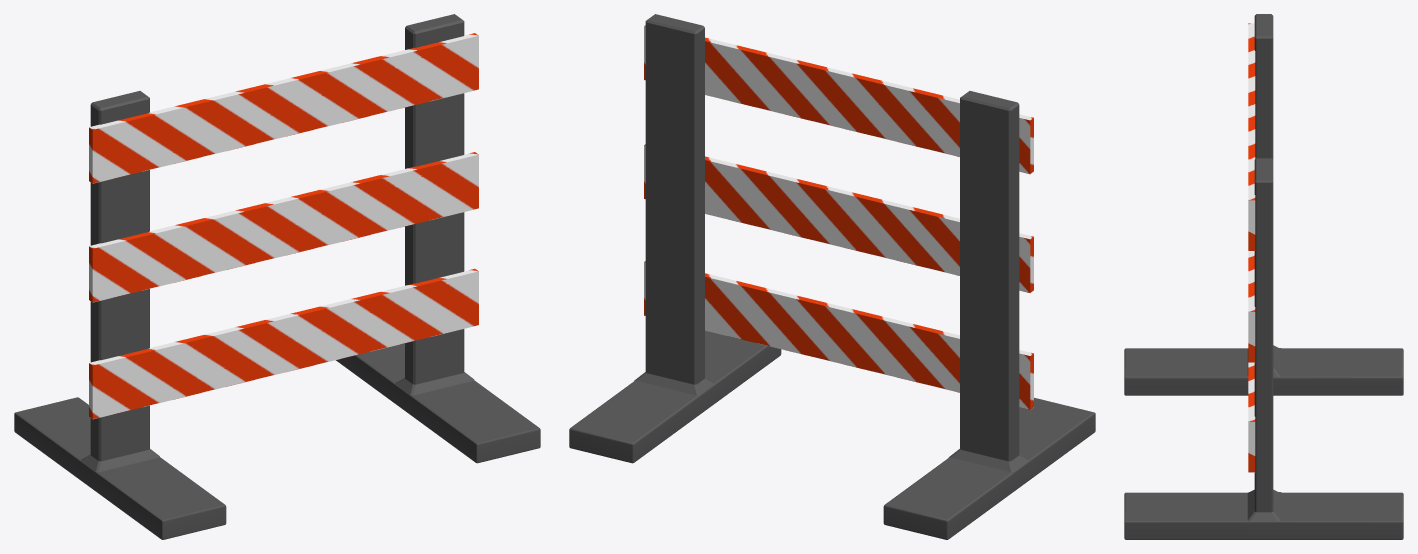
Rendered from Road Barrier.fbx.
The picture shows the model from 3 angles, left to right: view 1: azimuth 30°, elevation 25°; view 2: azimuth 150°, elevation 25°; view 3: azimuth 270°, elevation 25°; orthographic projection. The views are drawn at different scales.
Visible parts, largest first — view 1: pCube5, pCube3, pCube6, pCube7, pCube1; view 2: pCube5, pCube1, pCube6, pCube7, pCube3; view 3: pCube1, pCube5, pCube6, pCube3, pCube7.
Boxes of the visible parts, left/top/right/bottom form: pCube5: left=14, top=91, right=226, bottom=539; pCube3: left=89, top=152, right=478, bottom=302; pCube6: left=89, top=33, right=478, bottom=183; pCube7: left=89, top=268, right=478, bottom=419; pCube1: left=336, top=14, right=540, bottom=463; pCube5: left=883, top=91, right=1095, bottom=539; pCube1: left=569, top=14, right=781, bottom=463; pCube6: left=644, top=25, right=1033, bottom=174; pCube7: left=644, top=261, right=1033, bottom=409; pCube3: left=644, top=144, right=1033, bottom=292; pCube1: left=1124, top=158, right=1403, bottom=539; pCube5: left=1124, top=14, right=1403, bottom=395; pCube6: left=1248, top=23, right=1255, bottom=250; pCube3: left=1248, top=251, right=1255, bottom=362; pCube7: left=1248, top=362, right=1255, bottom=472.
Bounding box in the file's own units: 1.5 × 1.41 × 1.
2 materials, 1 textured.
